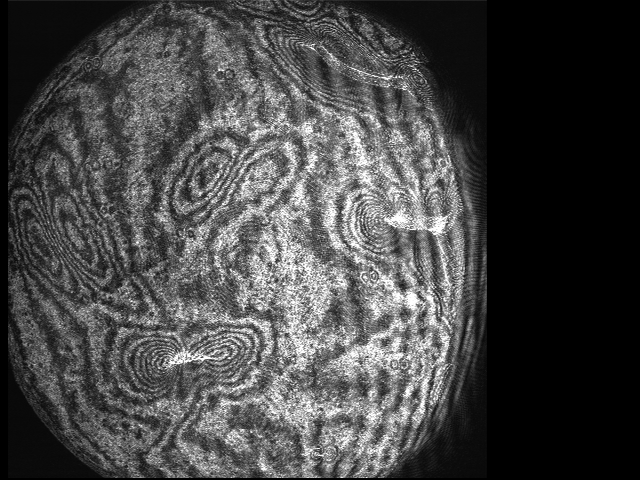plume: (99, 326, 265, 406)
